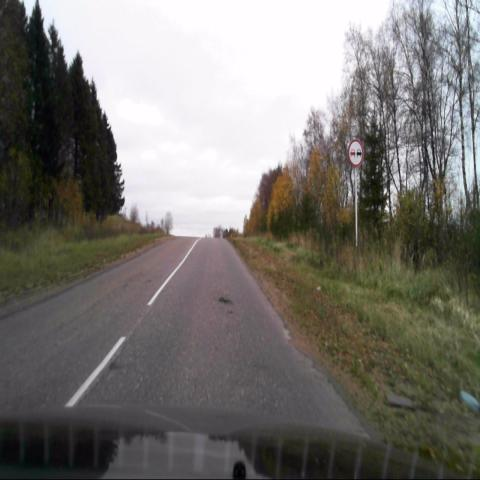3_20: (347, 138, 364, 167)
